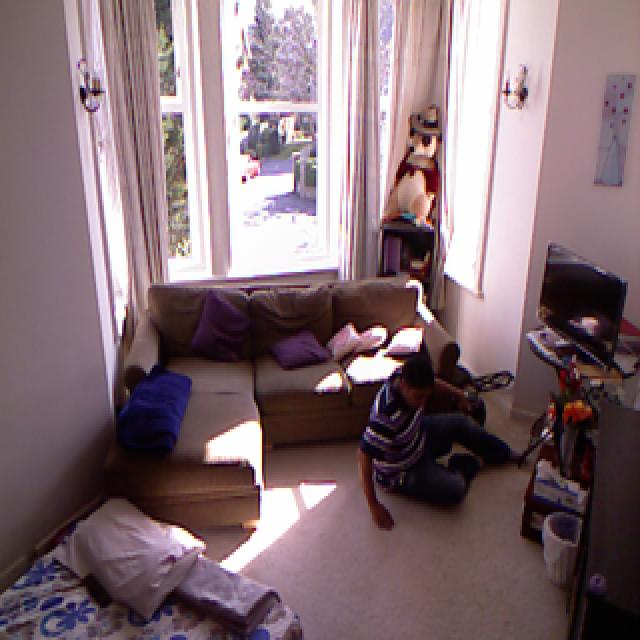sitting: (376, 360, 525, 526)
